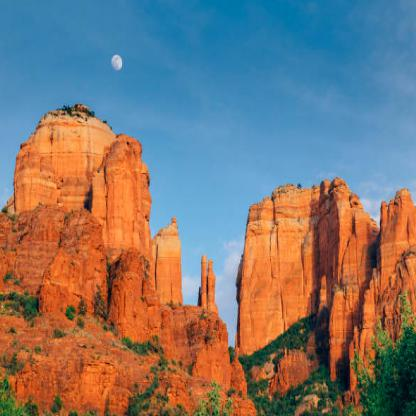Sedimentary_Sandstone: (238, 175, 358, 303), (11, 103, 112, 215), (110, 252, 162, 341), (147, 227, 197, 303)
